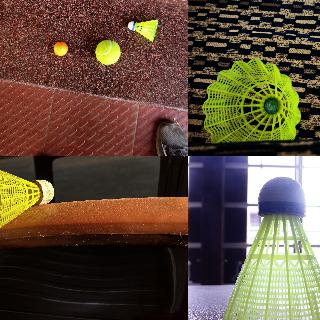shuttlecock: (222, 176, 319, 319), (202, 58, 300, 142), (0, 162, 54, 235), (126, 19, 158, 41)
